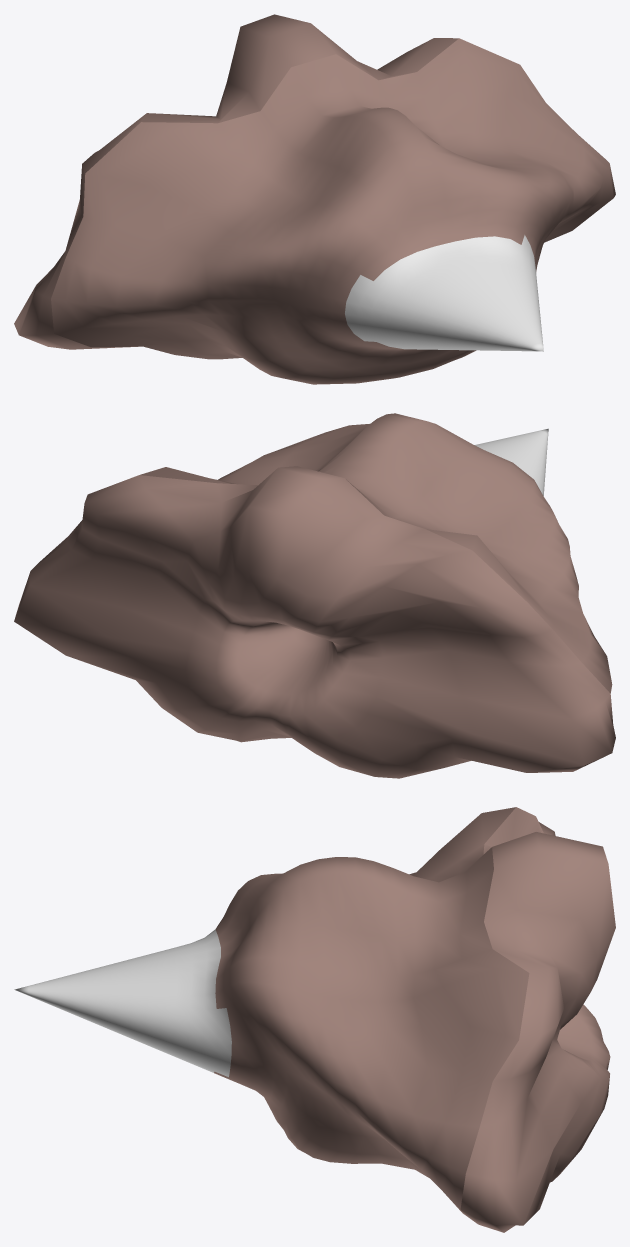
Rendered from Needle_thing.fbx.
3 renders of one model, top to bottom at view 1: azimuth 30°, elevation 25°; view 2: azimuth 150°, elevation 25°; view 3: azimuth 270°, elevation 25°, orthographic. The views are drawn at different scales.
Visible parts, largest first — view 1: Needle_thing; view 2: Needle_thing; view 3: Needle_thing.
Boxes of the visible parts, x1,y1,x2,y2 form: Needle_thing: (14, 14, 615, 384); Needle_thing: (14, 413, 615, 778); Needle_thing: (14, 807, 615, 1232).
Bounding box in the file's own units: 15.53 × 7.43 × 13.06.
